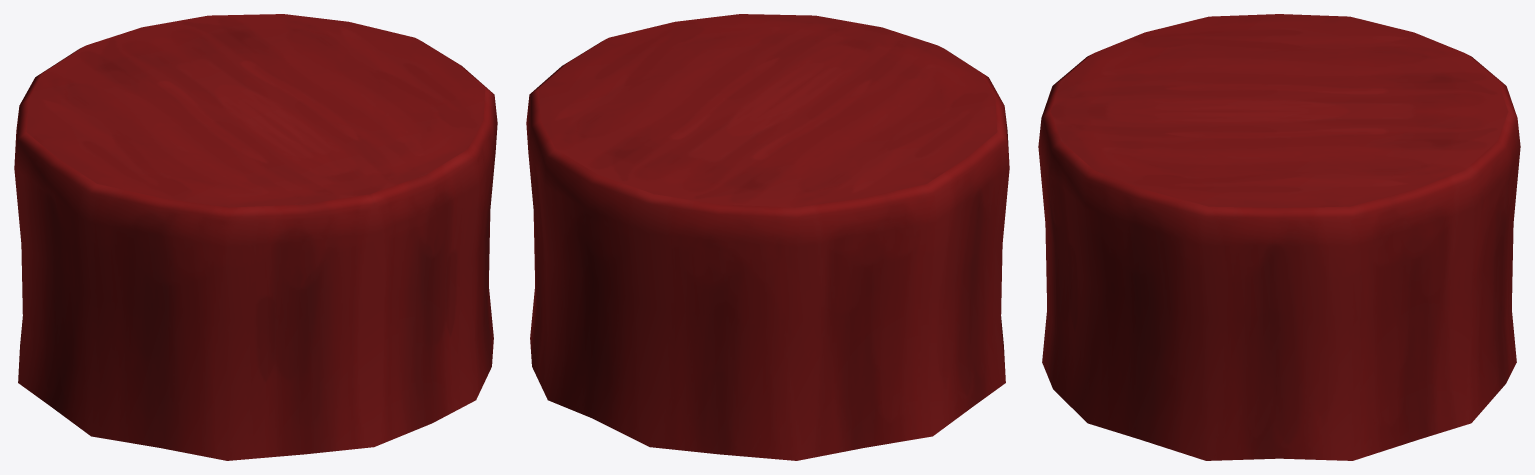
File: FortuneTeller_Tablecloth_Short_Scaled.fbx
3 views of the same model, side by side, from view 1: azimuth 30°, elevation 25°; view 2: azimuth 150°, elevation 25°; view 3: azimuth 270°, elevation 25° (orthographic).
Visible parts, largest first — view 1: Tablecloth_Short; view 2: Tablecloth_Short; view 3: Tablecloth_Short.
Boxes of the visible parts, bbox=[...] form: Tablecloth_Short: bbox=[14, 14, 497, 460]; Tablecloth_Short: bbox=[526, 14, 1009, 460]; Tablecloth_Short: bbox=[1038, 14, 1520, 460].
Bounding box in the file's own units: 92.06 × 52.79 × 91.78.
